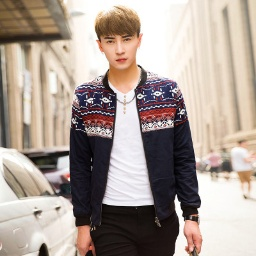face: (95, 4, 143, 71)
